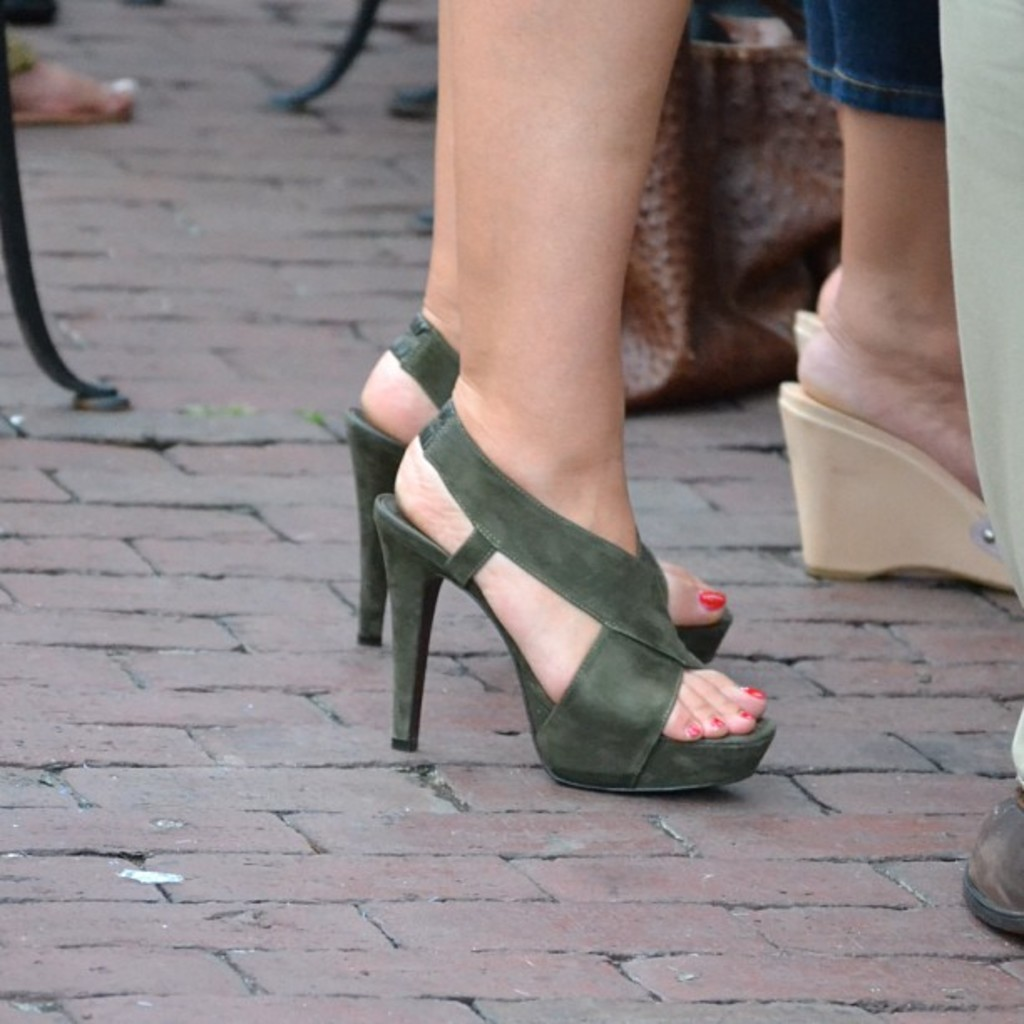person: (336, 5, 773, 797), (744, 4, 1019, 602), (0, 7, 143, 128)
